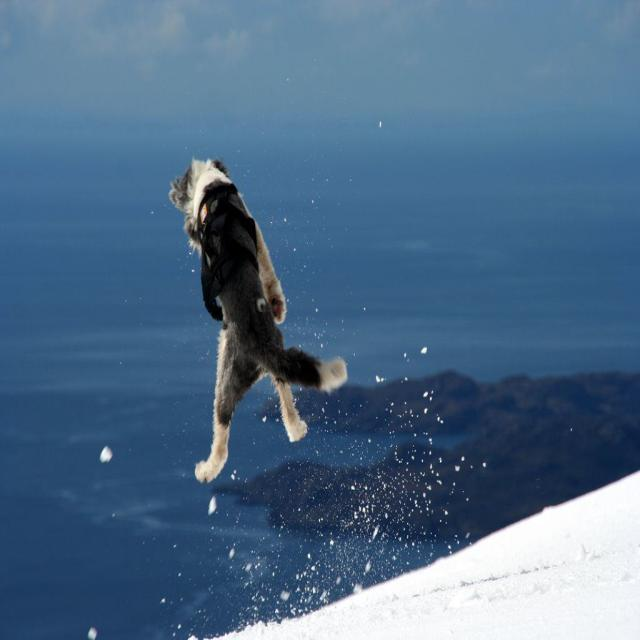Dog: (167, 156, 355, 484)
